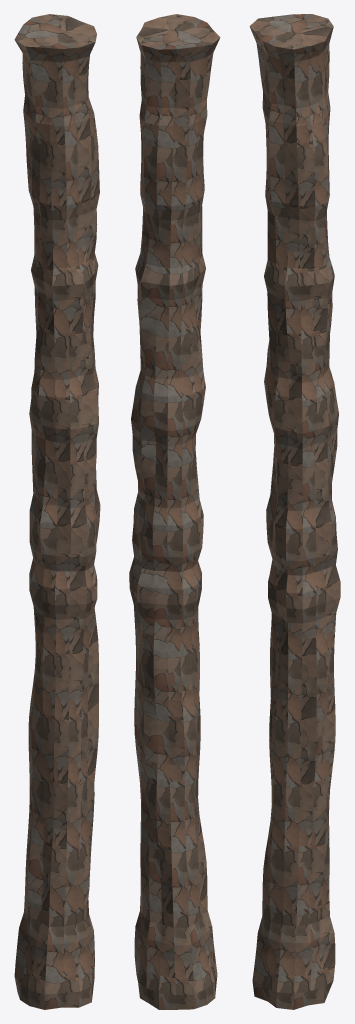
The model's file is CanyonBeam.gltf.
The picture shows the model from 3 angles, left to right: view 1: azimuth 30°, elevation 25°; view 2: azimuth 150°, elevation 25°; view 3: azimuth 330°, elevation 25°; orthographic projection.
Visible parts, largest first — view 1: CanyonBeam; view 2: CanyonBeam; view 3: CanyonBeam.
Boxes of the visible parts, left/top/right/bottom form: CanyonBeam: left=14, top=14, right=100, bottom=1009; CanyonBeam: left=129, top=14, right=220, bottom=1009; CanyonBeam: left=249, top=14, right=340, bottom=1009.
Size of the model in its own units: 10.45 by 120 by 9.62.
Materials: 1 (1 with a texture image).
